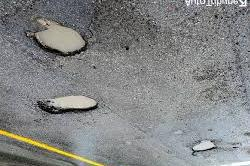pothole: (25, 15, 93, 59), (34, 88, 107, 117), (184, 132, 228, 156)
